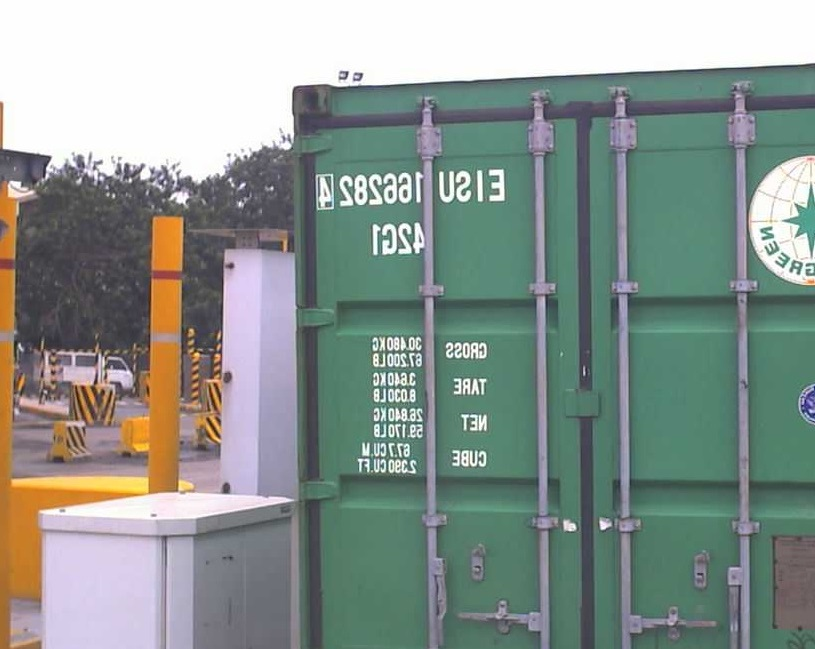container_door: (286, 85, 812, 648)
